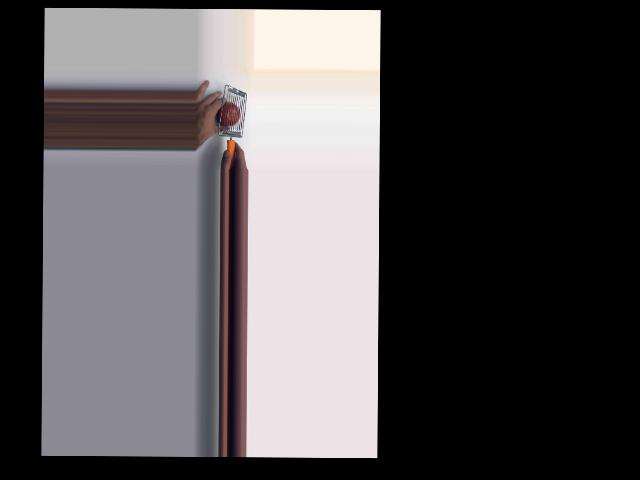tomato: (217, 102, 239, 127)
